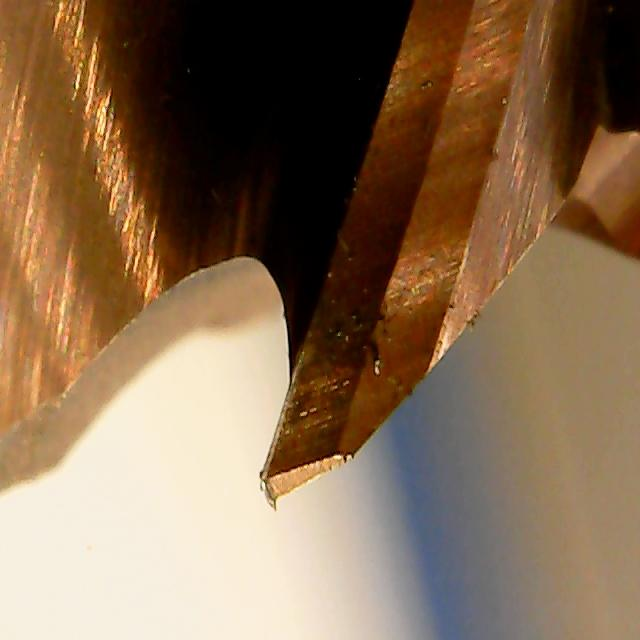Tool-wear-class-1: (244, 258, 434, 518)
